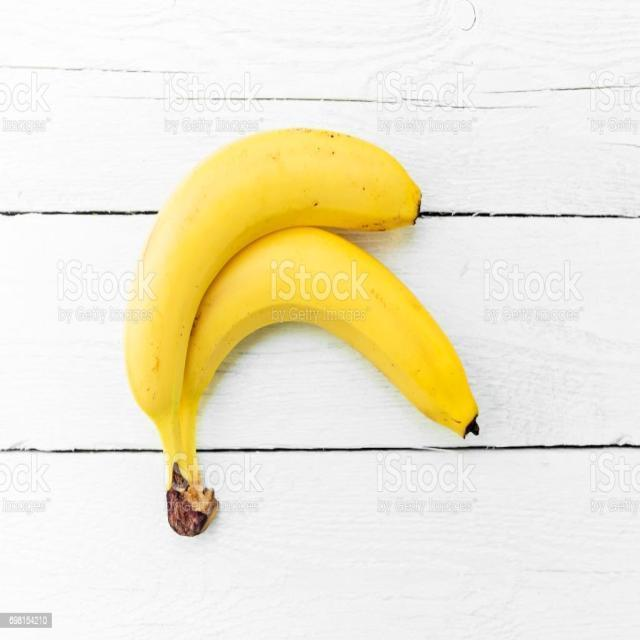Banana: (122, 126, 484, 544)
